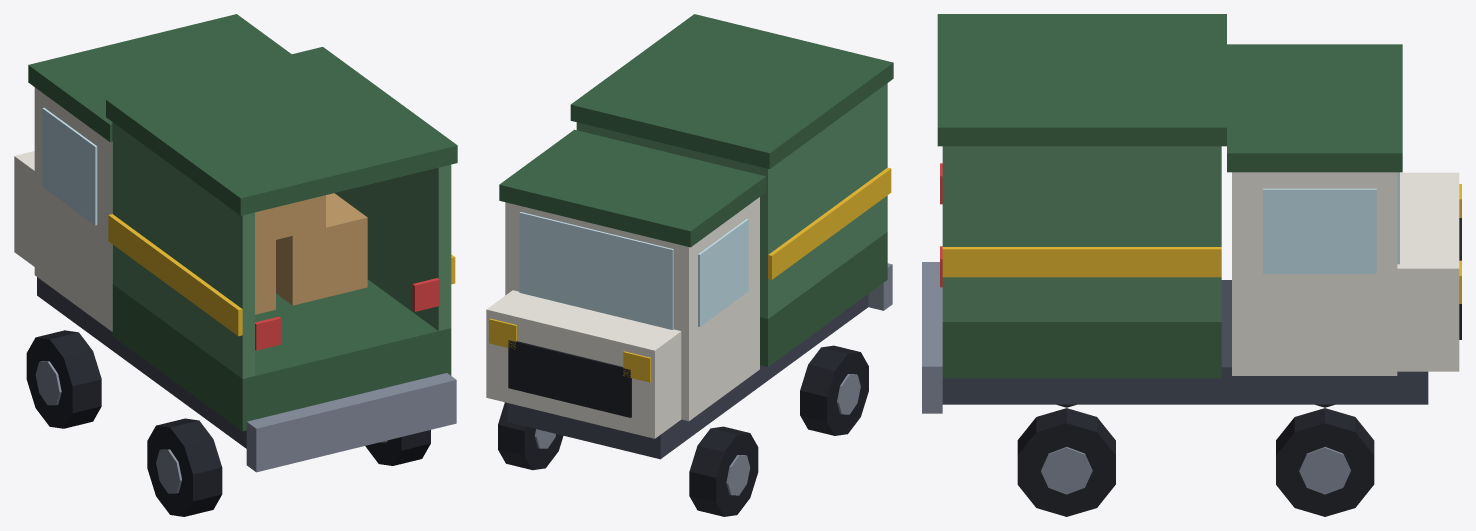
The model's file is truck.glb.
3 views of the same model, side by side, from view 1: azimuth 30°, elevation 25°; view 2: azimuth 150°, elevation 25°; view 3: azimuth 270°, elevation 25° (orthographic). The views are drawn at different scales.
Parts seen in each view (by area): view 1: truck; view 2: truck; view 3: truck.
Boxes of the visible parts, x1,y1,x2,y2 form: truck: (14,14,457,516); truck: (486,14,893,516); truck: (922,14,1461,516).
Size of the model in its own units: 0.58 by 0.82 by 1.05.
Materials: 1 (1 with a texture image).
